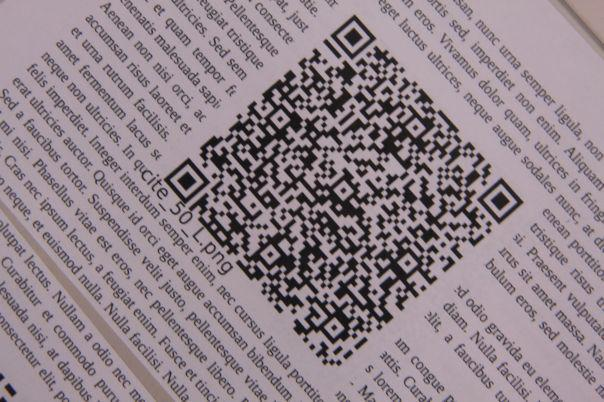Finder pattern: (478, 178, 522, 226), (166, 161, 210, 203), (333, 16, 375, 58)
